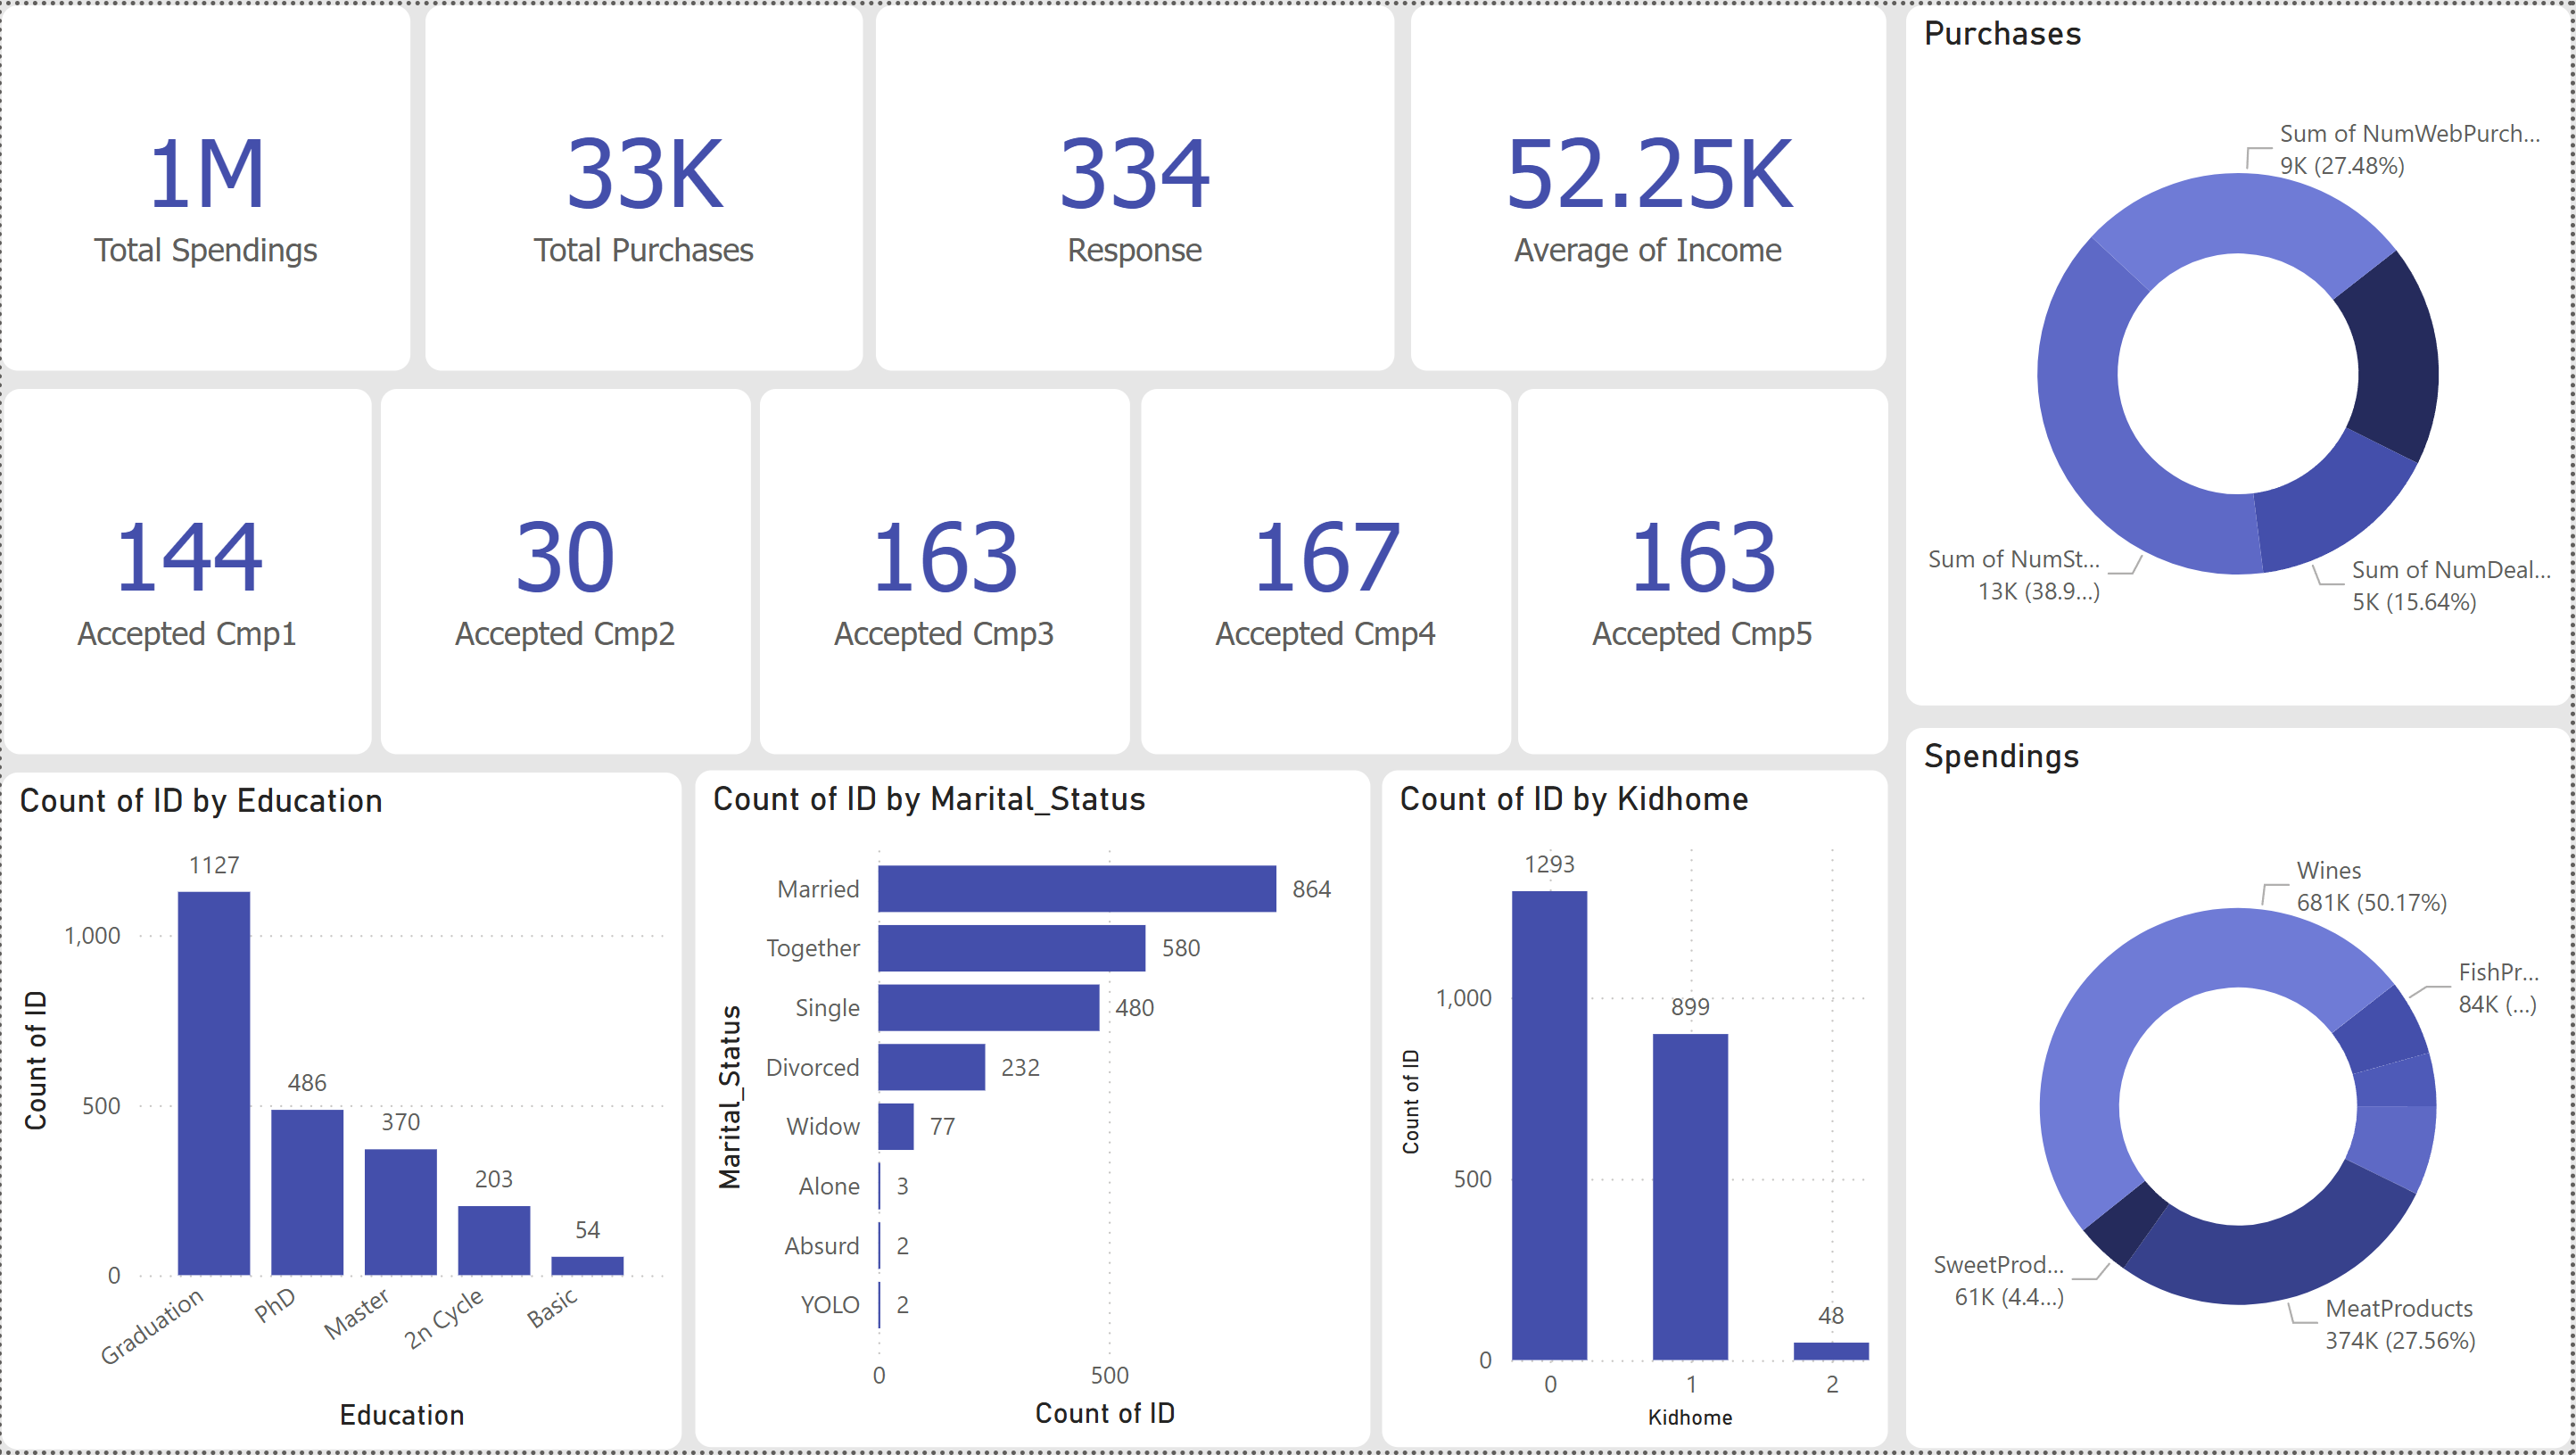

The dashboard page shown, as its layout file describes it:
{"tool":"powerbi","page":{"name":"Page 1","canvas":[1280,720],"ordinal":0},"visuals":[{"type":"card","fields":{"Values":["Sum(marketing_campaign.Spendings)"]},"box":[0,0,203.6,181.9],"z":0,"group":"g2"},{"type":"card","fields":{"Values":["Sum(marketing_campaign.AcceptedCmp1)"]},"box":[1.6,190.8,183.3,181.9],"z":0,"group":"g1"},{"type":"columnChart","fields":{"Category":["marketing_campaign.Kidhome"],"Y":["CountNonNull(marketing_campaign.ID)"]},"box":[688.2,381.2,251.8,337],"z":0},{"type":"card","fields":{"Values":["Sum(marketing_campaign.Purchases)"]},"box":[210.8,0,218,181.9],"z":1000,"group":"g2"},{"type":"card","fields":{"Values":["Sum(marketing_campaign.AcceptedCmp2)"]},"box":[189.7,190.8,184.3,181.9],"z":1000,"group":"g1"},{"type":"columnChart","fields":{"Category":["marketing_campaign.Education"],"Y":["Count(marketing_campaign.ID)"]},"box":[0,381.7,339,337],"z":1000},{"type":"card","fields":{"Values":["Sum(marketing_campaign.AcceptedCmp3)"]},"box":[378.7,190.8,184.3,181.9],"z":2000,"group":"g1"},{"type":"barChart","fields":{"Category":["marketing_campaign.Marital_Status"],"Y":["Count(marketing_campaign.ID)"]},"box":[345,381.2,336.6,337],"z":2000},{"type":"card","fields":{"Values":["Sum(marketing_campaign.AcceptedCmp4)"]},"box":[567.8,190.8,184.3,181.9],"z":3000,"group":"g1"},{"type":"donutChart","title":"Spendings","fields":{"Y":["Sum(marketing_campaign.MntFishProducts)","Sum(marketing_campaign.MntFruits)","Sum(marketing_campaign.MntGoldProds)","Sum(marketing_campaign.MntMeatProducts)","Sum(marketing_campaign.MntSweetProducts)","Sum(marketing_campaign.MntWines)"]},"box":[948.8,360,331.2,358.8],"z":3000},{"type":"card","fields":{"Values":["Avg(marketing_campaign.Income)"]},"box":[701.8,0,236.8,181.9],"z":4000,"group":"g2"},{"type":"group","id":"g1","title":"Group 1","box":[1.6,190.8,938.6,181.9],"z":4000,"group":"g3"},{"type":"card","fields":{"Values":["Sum(marketing_campaign.AcceptedCmp5)"]},"box":[755.9,190.8,184.3,181.9],"z":4000,"group":"g1"},{"type":"group","id":"g2","title":"Group 2","box":[0,0,938.6,181.9],"z":5000,"group":"g3"},{"type":"card","fields":{"Values":["Sum(marketing_campaign.Response)"]},"box":[436.1,0,258.5,181.9],"z":5001,"group":"g2"},{"type":"donutChart","title":"Purchases","fields":{"Y":["Sum(marketing_campaign.NumCatalogPurchases)","Sum(marketing_campaign.NumDealsPurchases)","Sum(marketing_campaign.NumStorePurchases)","Sum(marketing_campaign.NumWebPurchases)"]},"box":[948.8,0,331.2,348.8],"z":6000},{"type":"group","id":"g3","title":"Group 3","box":[0,0,940.2,372.7],"z":6001}]}

Visuals, with their boxes in screenshot pixels (x1, y1, x2, y2), scaled from the page's 1280x720 canvas onto the 2576x1455 screenshot:
card - Sum(marketing_campaign.Spendings): box=[0, 0, 409, 368]
card - Sum(marketing_campaign.AcceptedCmp1): box=[4, 385, 372, 753]
columnChart - marketing_campaign.Kidhome x CountNonNull(marketing_campaign.ID): box=[1385, 771, 1892, 1451]
card - Sum(marketing_campaign.Purchases): box=[425, 0, 863, 368]
card - Sum(marketing_campaign.AcceptedCmp2): box=[382, 385, 753, 753]
columnChart - marketing_campaign.Education x Count(marketing_campaign.ID): box=[0, 772, 682, 1452]
card - Sum(marketing_campaign.AcceptedCmp3): box=[762, 385, 1133, 753]
barChart - marketing_campaign.Marital_Status x Count(marketing_campaign.ID): box=[694, 771, 1372, 1451]
card - Sum(marketing_campaign.AcceptedCmp4): box=[1143, 385, 1514, 753]
"Spendings" donutChart: box=[1910, 728, 2575, 1452]
card - Avg(marketing_campaign.Income): box=[1412, 0, 1889, 368]
"Group 1" group: box=[4, 385, 1892, 753]
card - Sum(marketing_campaign.AcceptedCmp5): box=[1521, 385, 1892, 753]
"Group 2" group: box=[0, 0, 1889, 368]
card - Sum(marketing_campaign.Response): box=[878, 0, 1398, 368]
"Purchases" donutChart: box=[1910, 0, 2575, 705]
"Group 3" group: box=[0, 0, 1892, 753]
